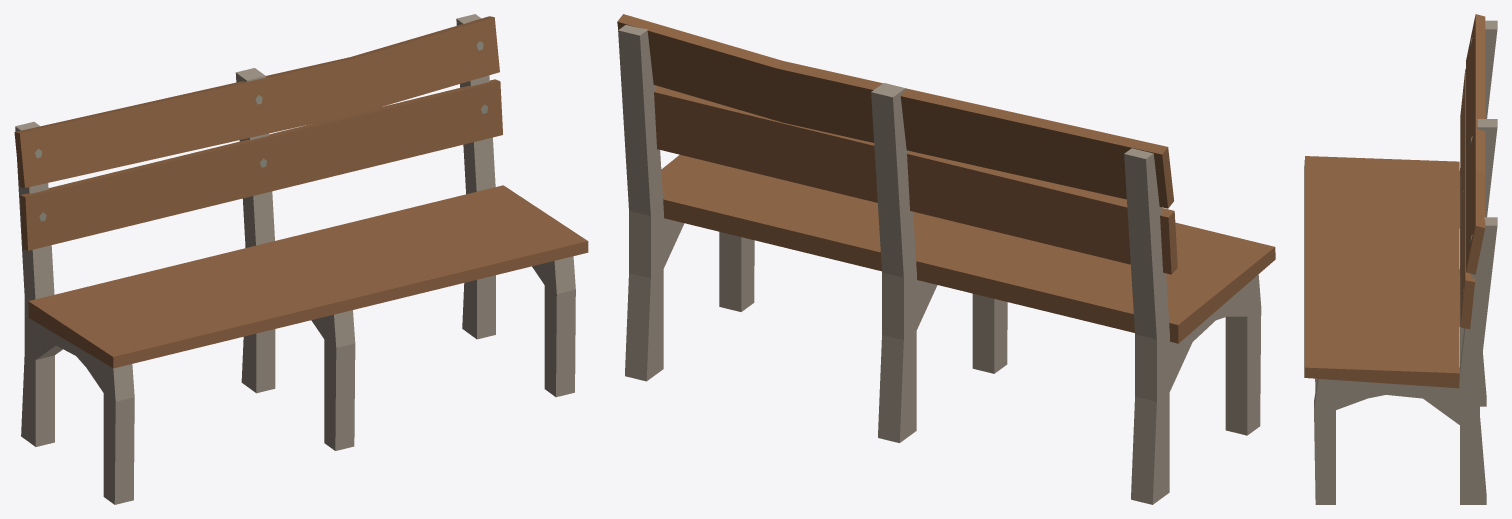
File: Bench.fbx
The picture shows the model from 3 angles, left to right: view 1: azimuth 30°, elevation 25°; view 2: azimuth 150°, elevation 25°; view 3: azimuth 270°, elevation 25°; orthographic projection. The views are drawn at different scales.
Parts seen in each view (by area): view 1: Bench; view 2: Bench; view 3: Bench.
Part boxes in pixels (left/top/right/bottom): Bench: left=14, top=14, right=588, bottom=504; Bench: left=617, top=14, right=1275, bottom=504; Bench: left=1304, top=14, right=1497, bottom=504.
Bounding box in the file's own units: 140 × 86.94 × 53.82.
